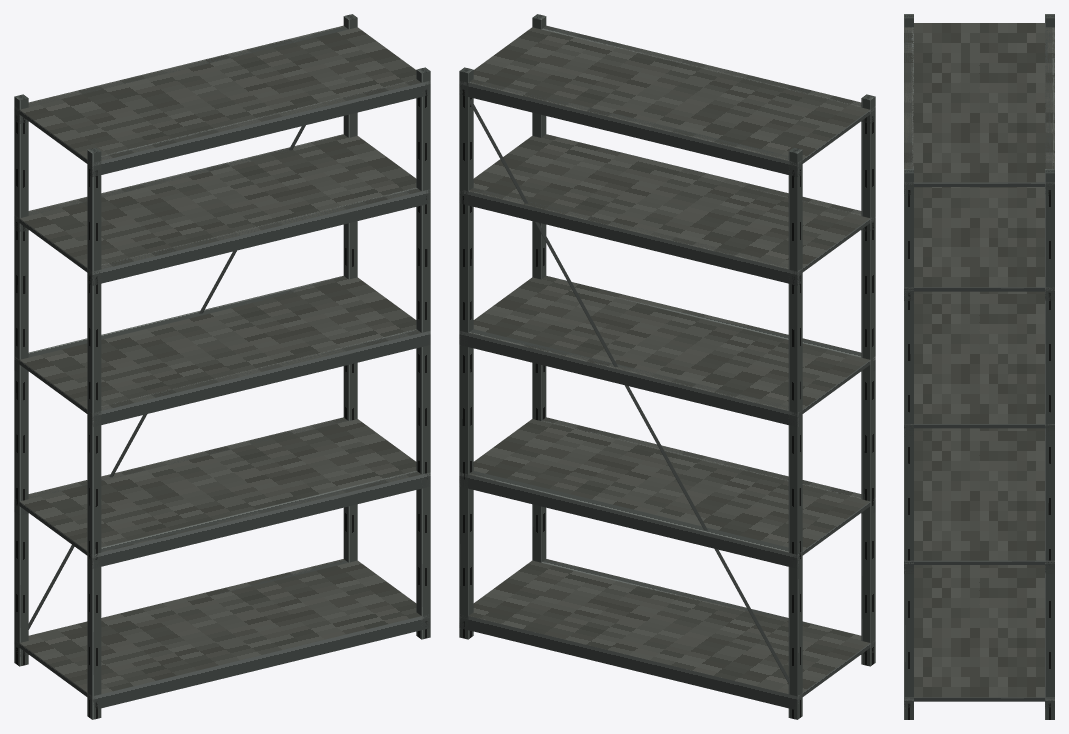
File: industrial_shelf_empty.glb
3 renders of one model, left to right at view 1: azimuth 30°, elevation 25°; view 2: azimuth 150°, elevation 25°; view 3: azimuth 270°, elevation 25°, orthographic. The views are drawn at different scales.
Parts seen in each view (by area): view 1: IndustrialShelfEmpty; view 2: IndustrialShelfEmpty; view 3: IndustrialShelfEmpty.
Boxes of the visible parts, left/top/right/bottom form: IndustrialShelfEmpty: left=14, top=14, right=430, bottom=719; IndustrialShelfEmpty: left=459, top=14, right=875, bottom=719; IndustrialShelfEmpty: left=904, top=14, right=1054, bottom=719.
Size of what is drawn, in the model's own units: 1.5 by 2.4 by 0.6.
Materials: 1 (1 with a texture image).
